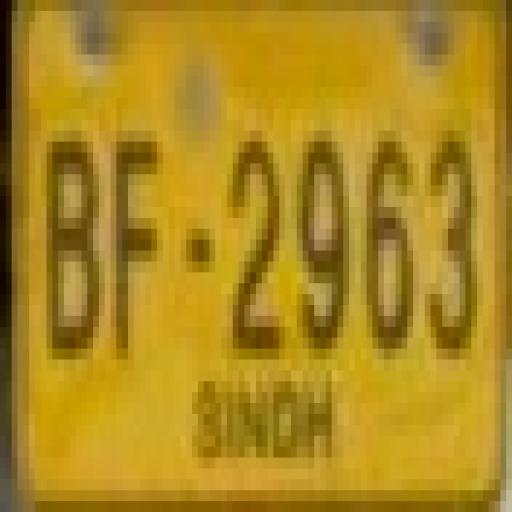2: (221, 114, 291, 364)
3: (422, 131, 477, 371)
6: (355, 142, 414, 372)
9: (298, 117, 344, 361)
B: (38, 135, 102, 355)
F: (108, 120, 164, 375)
